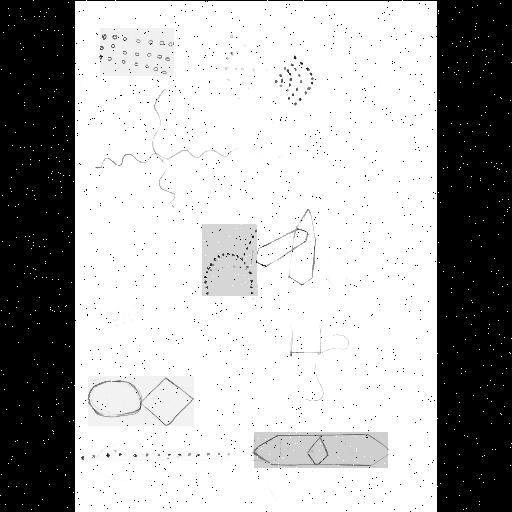shape-1: (88, 376, 194, 426)
shape-2: (82, 451, 230, 461)
shape-3: (100, 28, 174, 76)
shape-4: (272, 54, 316, 106)
shape-5: (288, 328, 350, 402)
shape-6: (202, 224, 258, 296)
shape-7: (96, 88, 230, 206)
shape-8: (257, 208, 317, 284)
shape-9: (254, 432, 388, 468)
